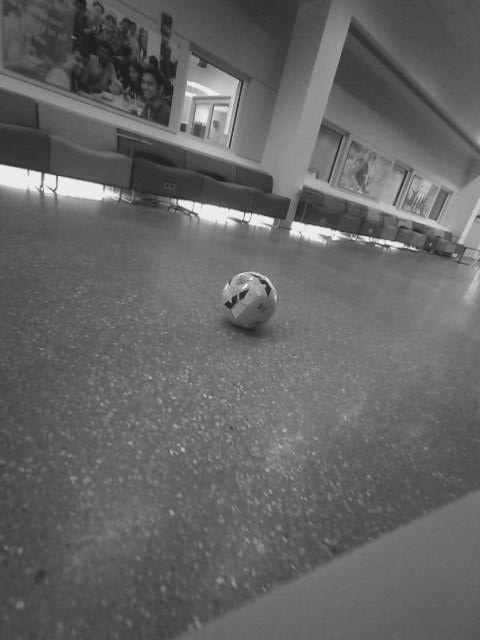ball: (215, 268, 285, 335)
